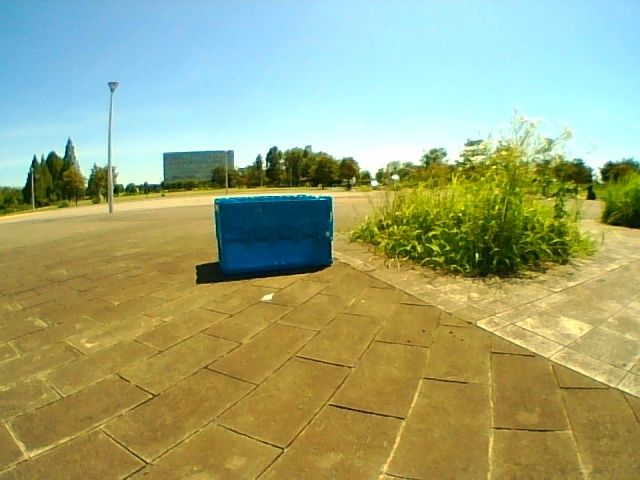blue_box: (218, 198, 333, 265)
